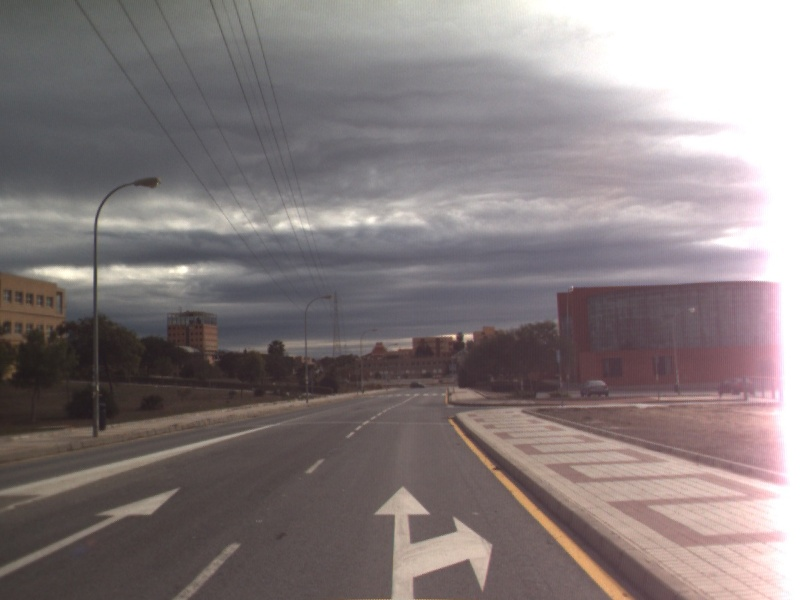STRAIGHT: (1, 484, 184, 578)
STRAIGHT_RIGHT: (371, 484, 495, 600)
